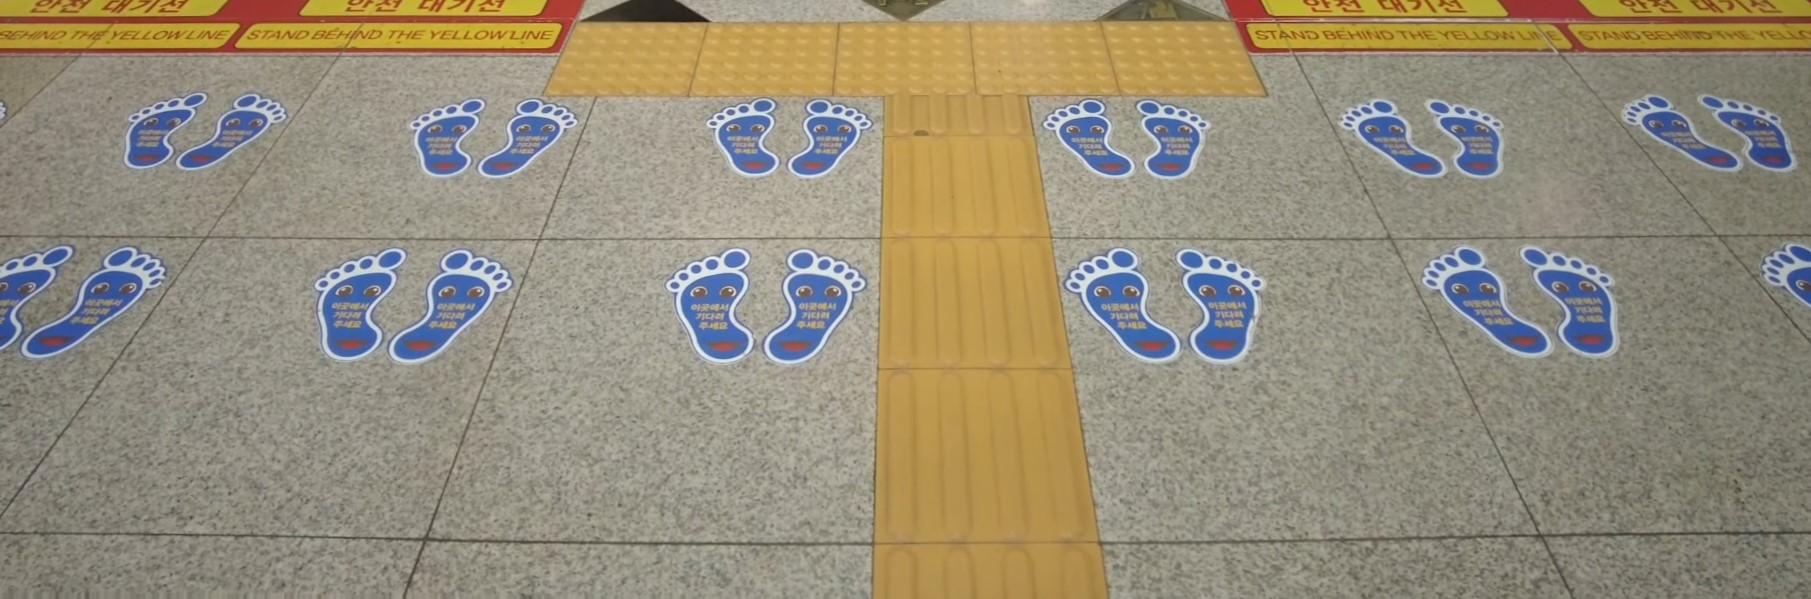guideBlock: (867, 340, 1105, 554), (882, 92, 1039, 250), (875, 245, 1083, 360)
warningBlock: (1110, 12, 1270, 99), (972, 20, 1119, 108), (688, 29, 833, 103), (843, 22, 969, 106), (560, 15, 678, 88)
